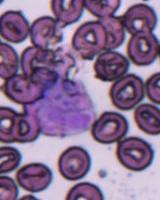E: (29, 76, 95, 136)
